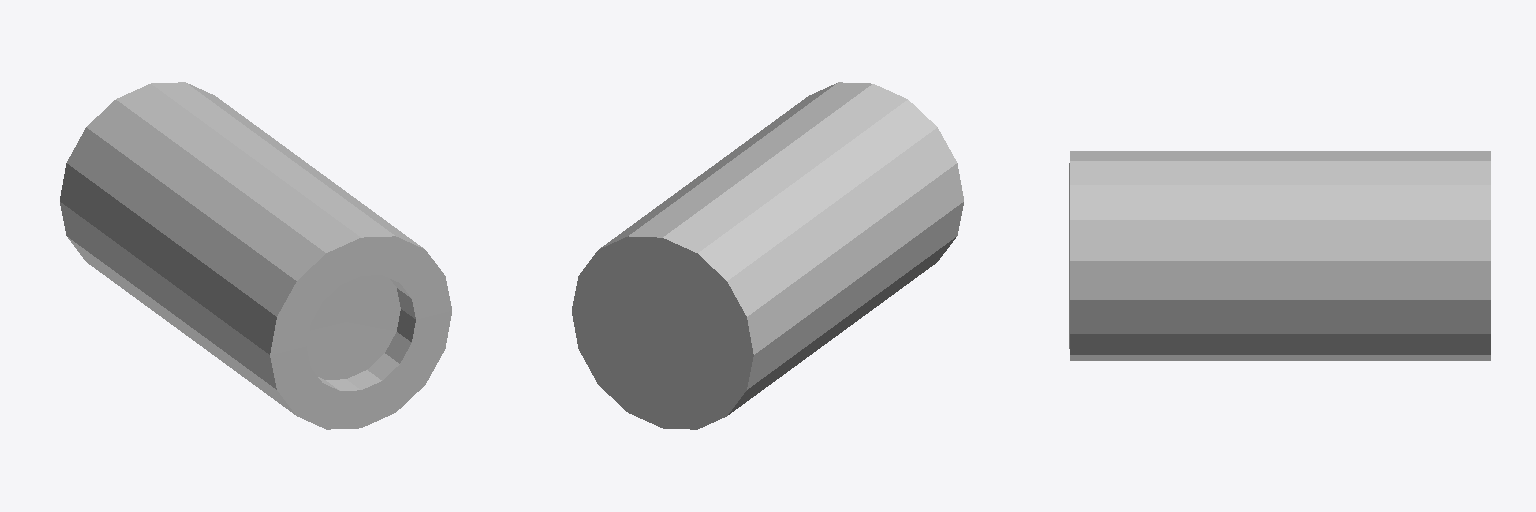
The picture shows the model from 3 angles: view 1: azimuth 30°, elevation 25°; view 2: azimuth 150°, elevation 25°; view 3: azimuth 270°, elevation 25°; orthographic projection.
Visible parts, largest first — view 1: Cube_Cube_None_QuartoPieces.png; view 2: Cube_Cube_None_QuartoPieces.png; view 3: Cube_Cube_None_QuartoPieces.png.
Part boxes in pixels (left/top/right/bottom): Cube_Cube_None_QuartoPieces.png: left=60, top=82, right=451, bottom=429; Cube_Cube_None_QuartoPieces.png: left=572, top=82, right=963, bottom=429; Cube_Cube_None_QuartoPieces.png: left=1069, top=151, right=1490, bottom=360.
Bounding box in the file's own units: 2 × 2 × 4.